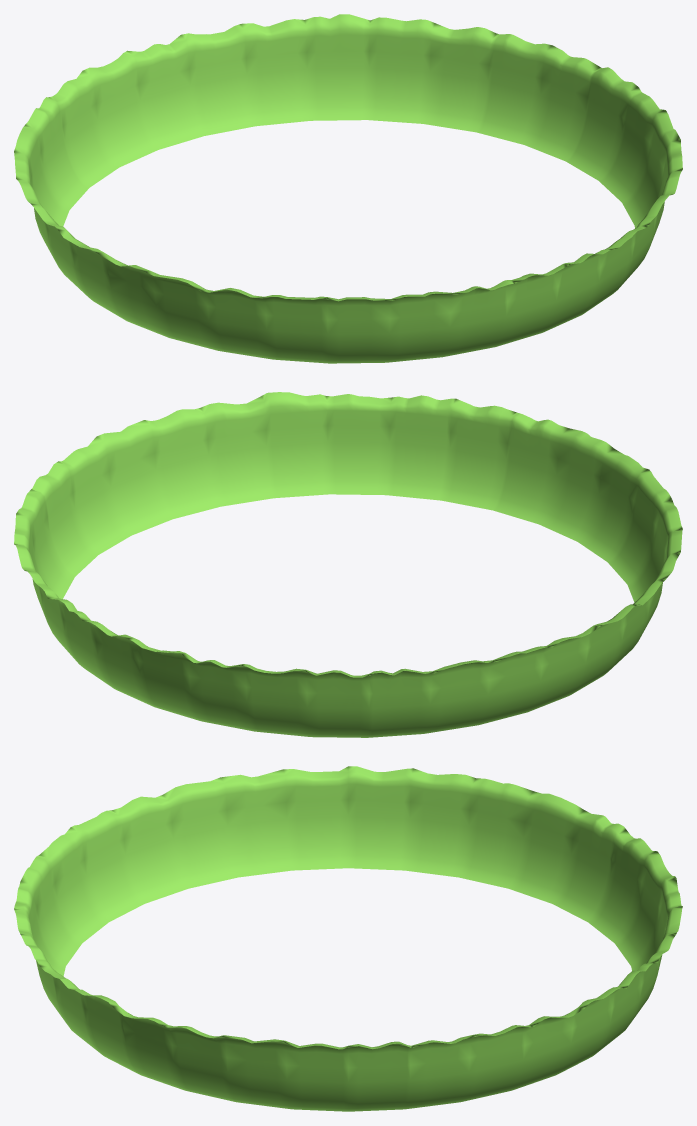
Rendered from Rand_Visuals.fbx.
The picture shows the model from 3 angles, top to bottom: view 1: azimuth 30°, elevation 25°; view 2: azimuth 150°, elevation 25°; view 3: azimuth 270°, elevation 25°; orthographic projection.
Parts seen in each view (by area): view 1: Cylinder; view 2: Cylinder; view 3: Cylinder.
Part boxes in pixels (left/top/right/bottom): Cylinder: left=14, top=14, right=682, bottom=363; Cylinder: left=14, top=392, right=682, bottom=737; Cylinder: left=14, top=766, right=682, bottom=1111.
Bounding box in the file's own units: 243 × 34.62 × 243.
